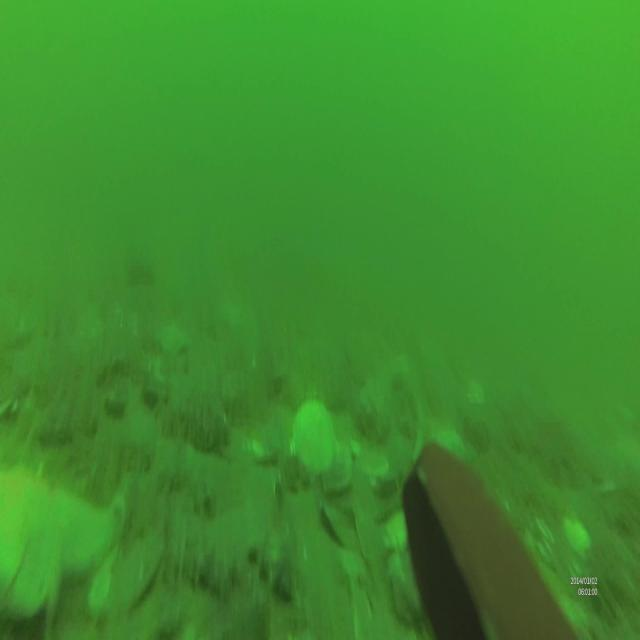starfish: (0, 472, 126, 621)
